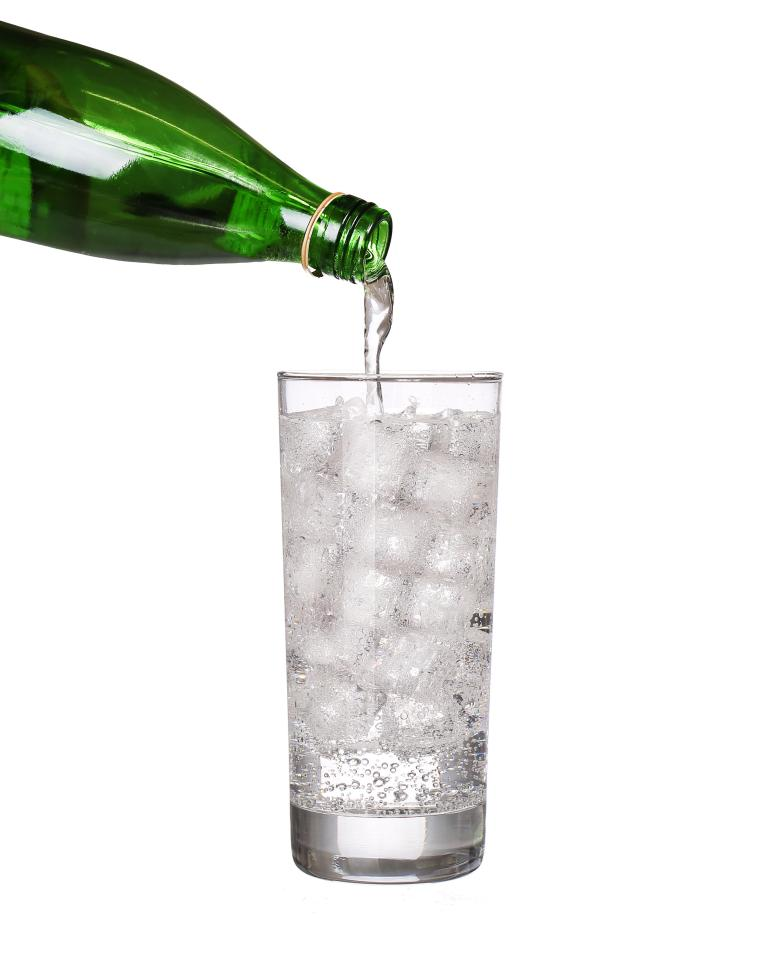glass of water: (302, 368, 461, 880)
